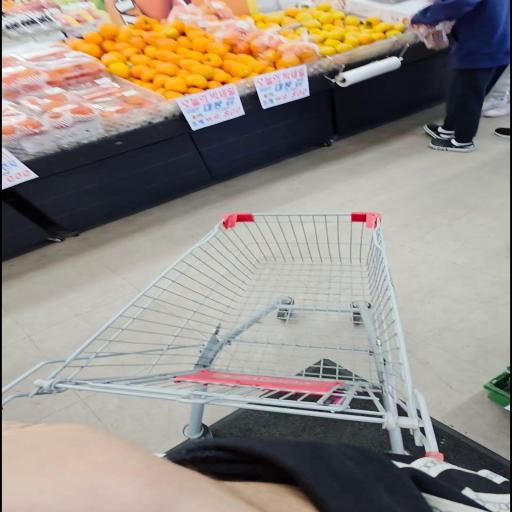empty_cart: (0, 209, 441, 464)
